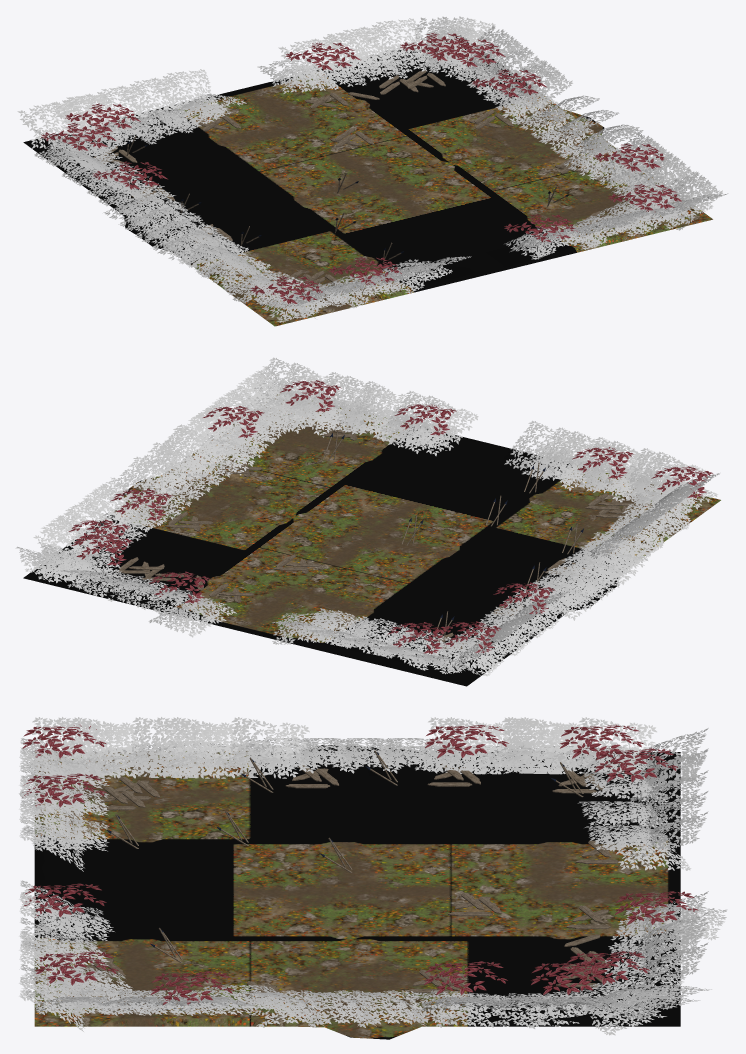
Rendered from 2 Puertas 2.fbx.
3 renders of one model, top to bottom at view 1: azimuth 30°, elevation 25°; view 2: azimuth 150°, elevation 25°; view 3: azimuth 270°, elevation 25°, orthographic. The views are drawn at different scales.
Parts seen in each view (by area): view 1: pPlane61; view 2: pPlane61; view 3: pPlane61.
Part boxes in pixels (x1=…): pPlane61: x1=17, y1=16, x2=728, y2=326; pPlane61: x1=15, y1=357, x2=720, y2=686; pPlane61: x1=19, y1=717, x2=727, y2=1039.
Bounding box in the file's own units: 518 × 41.11 × 520.
